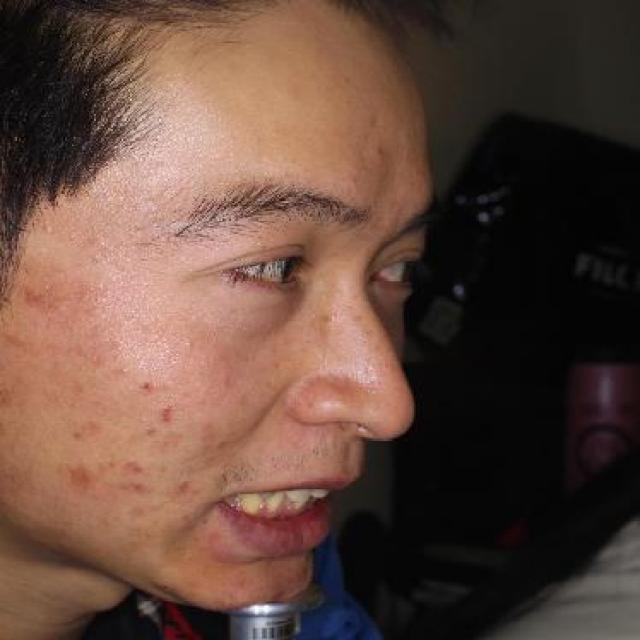dark spot: (60, 455, 108, 503), (134, 370, 168, 404), (152, 402, 183, 431)
